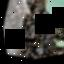Purslane: (7, 0, 64, 63)
